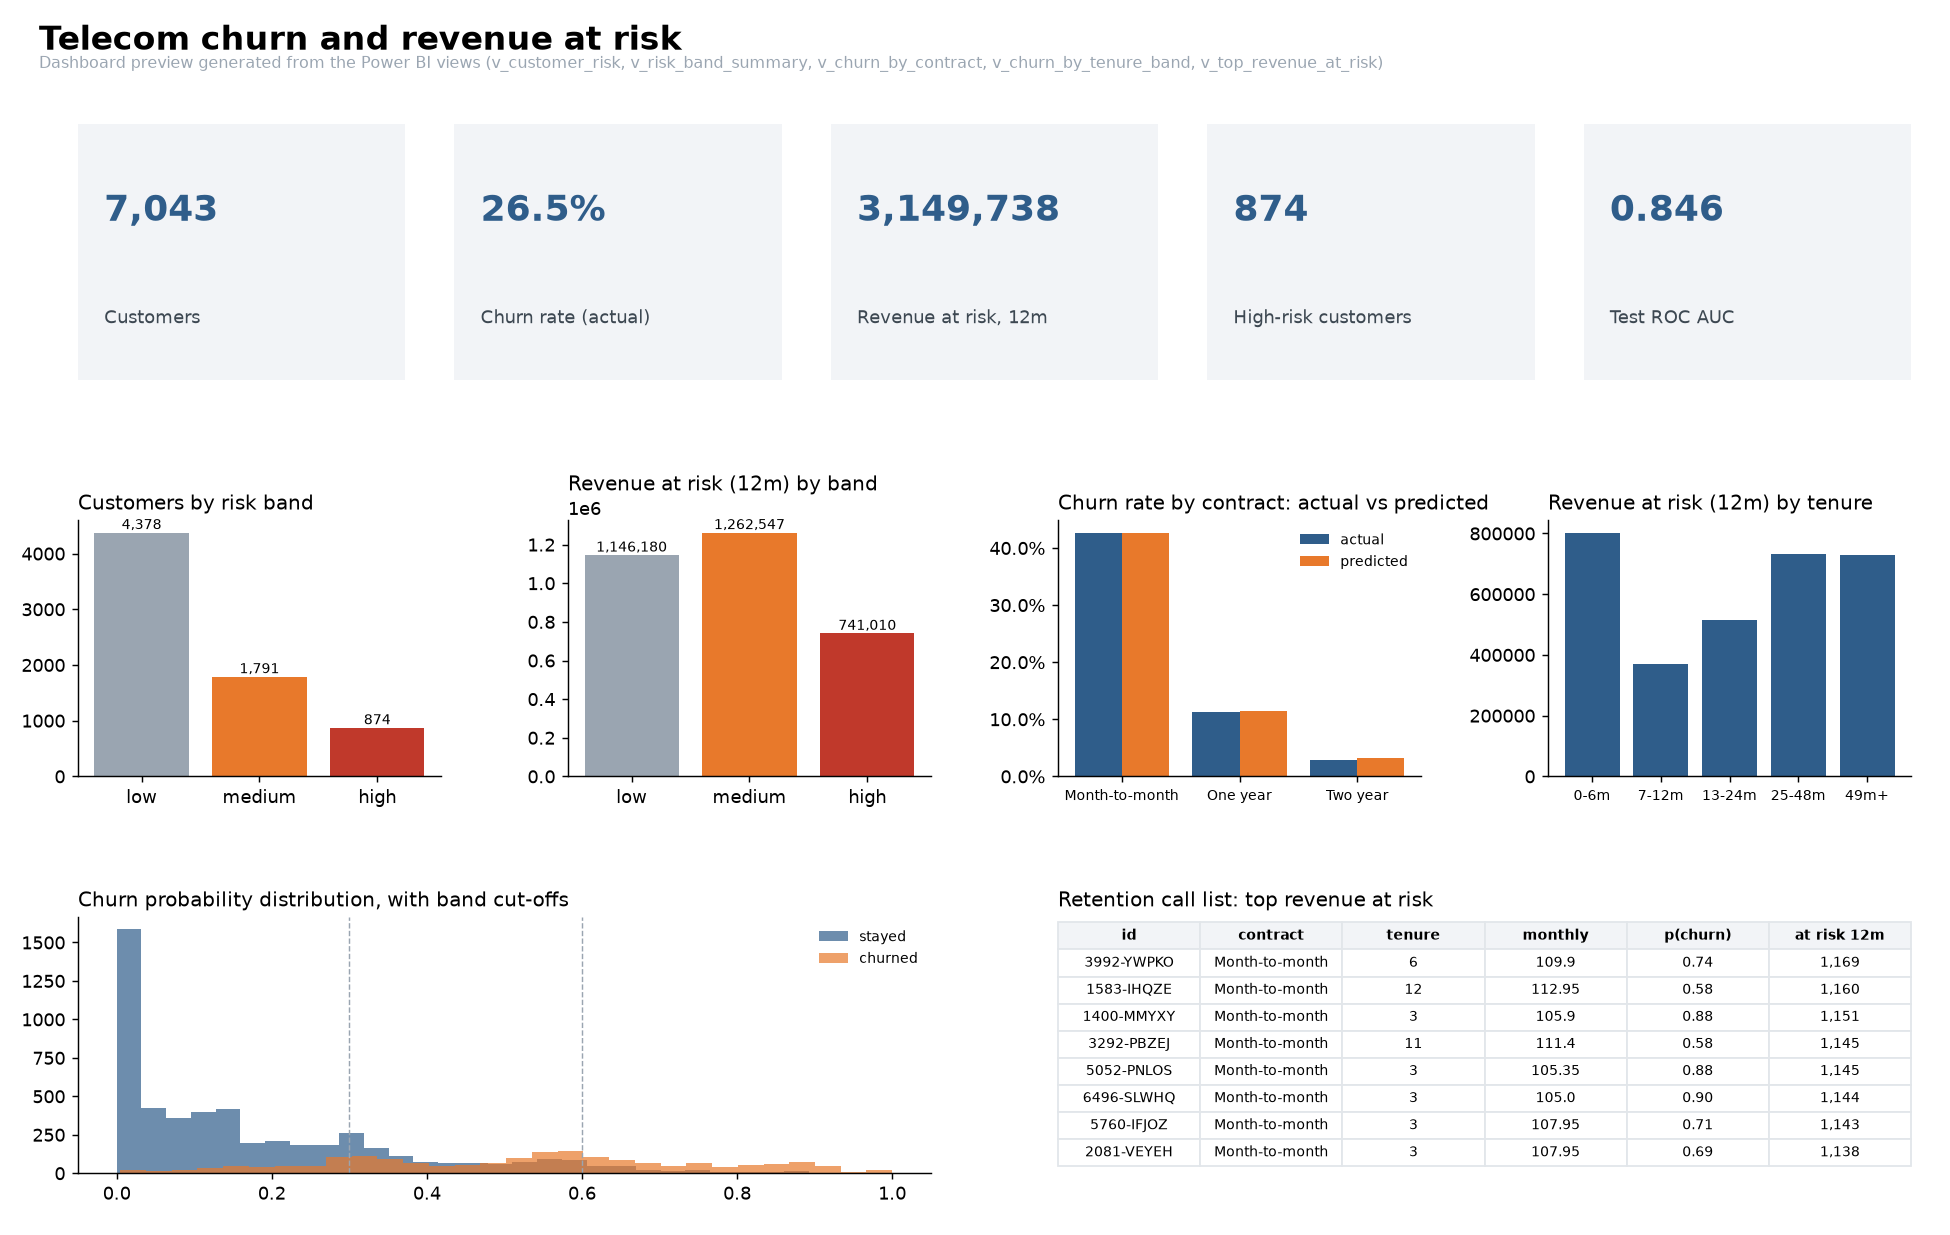

The page's visual inventory and layout, read from the dashboard file:
{"tool":"powerbi","page":{"name":"Synthèse","canvas":[1920,1080],"ordinal":0},"visuals":[{"type":"cardVisual","title":"Nombre de clients","fields":{"Data":["v_customer_risk.Customers"]},"box":[10,0,396,280],"z":0},{"type":"cardVisual","title":"Taux de churn observé","fields":{"Data":["v_customer_risk.Churn rate (actual)"]},"box":[0,280,406,280],"z":1},{"type":"cardVisual","title":"Revenu à risque sur 12 mois","fields":{"Data":["v_customer_risk.Revenue at risk 12m"]},"box":[0,560,396,280],"z":2},{"type":"cardVisual","title":"Clients à risque élevé","fields":{"Data":["v_customer_risk.High-risk customers"]},"box":[406,0,406,280],"z":3},{"type":"cardVisual","title":"Performance du modèle (ROC AUC)","fields":{"Data":["v_customer_risk.Test AUC"]},"box":[406,280,406,260],"z":4},{"type":"columnChart","title":"Clients par niveau de risque","fields":{"Category":["v_customer_risk.risk_band"],"Y":["v_customer_risk.Customers"]},"box":[416,576,406,280],"z":6},{"type":"columnChart","title":"Revenu à risque par niveau de risque","fields":{"Category":["v_customer_risk.risk_band"],"Y":["v_customer_risk.Revenue at risk 12m"]},"box":[835.8,576.5,406,280],"z":7},{"type":"slicer","title":"Type de contrat","fields":{"Values":["v_customer_risk.contract"]},"box":[822,14,396,250],"z":8},{"type":"slicer","title":"Service internet","fields":{"Values":["v_customer_risk.internet_service"]},"box":[818,290,396,250],"z":9},{"type":"slicer","title":"Ancienneté","fields":{"Values":["v_customer_risk.tenure_band"]},"box":[1242,0,396,250],"z":10}]}

Visuals, with their boxes on the page's 1920x1080 design canvas (x1, y1, x2, y2). These are canvas units, not pixel positions in the 1950x1235 screenshot, which may show the page scaled, cropped or inside an application window:
"Nombre de clients" cardVisual: (x1=10, y1=0, x2=406, y2=280)
"Taux de churn observé" cardVisual: (x1=0, y1=280, x2=406, y2=560)
"Revenu à risque sur 12 mois" cardVisual: (x1=0, y1=560, x2=396, y2=840)
"Clients à risque élevé" cardVisual: (x1=406, y1=0, x2=812, y2=280)
"Performance du modèle (ROC AUC)" cardVisual: (x1=406, y1=280, x2=812, y2=540)
"Clients par niveau de risque" columnChart: (x1=416, y1=576, x2=822, y2=856)
"Revenu à risque par niveau de risque" columnChart: (x1=836, y1=576, x2=1242, y2=856)
"Type de contrat" slicer: (x1=822, y1=14, x2=1218, y2=264)
"Service internet" slicer: (x1=818, y1=290, x2=1214, y2=540)
"Ancienneté" slicer: (x1=1242, y1=0, x2=1638, y2=250)
